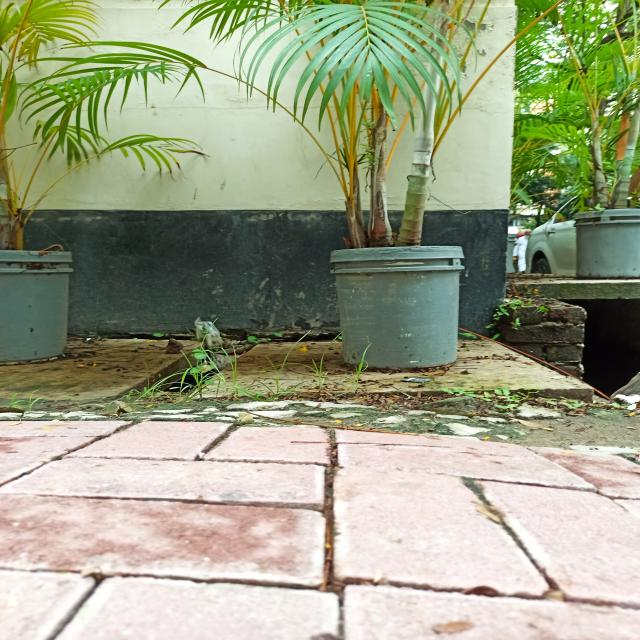artificial_container: (328, 245, 466, 369), (2, 248, 72, 364), (568, 204, 640, 279)
